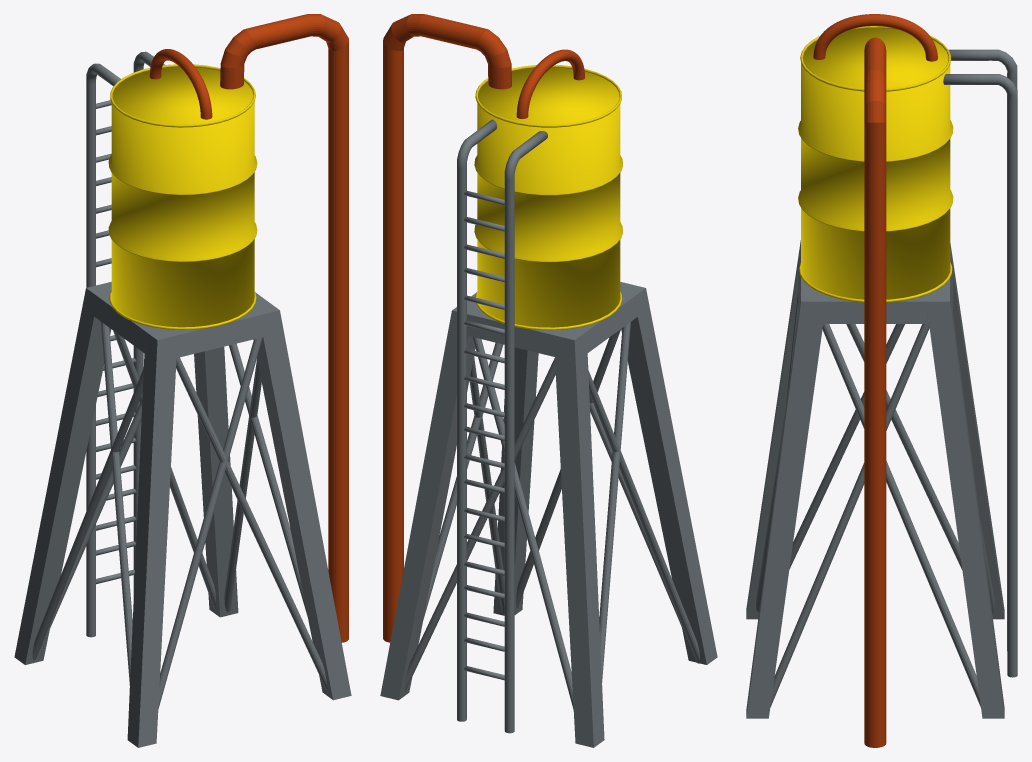
The model's file is Oil Top Up Station.fbx.
3 views of the same model, side by side, from view 1: azimuth 30°, elevation 25°; view 2: azimuth 150°, elevation 25°; view 3: azimuth 270°, elevation 25° (orthographic). The views are drawn at different scales.
Parts seen in each view (by area): view 1: Cube.003, cable; view 2: Cube.003, cable; view 3: Cube.003, cable.
Boxes of the visible parts, bbox=[...] form: Cube.003: bbox=[14, 14, 351, 747]; cable: bbox=[149, 49, 212, 119]; Cube.003: bbox=[380, 14, 717, 747]; cable: bbox=[516, 49, 584, 118]; Cube.003: bbox=[746, 26, 1017, 747]; cable: bbox=[813, 14, 937, 61].
Bounding box in the file's own units: 2656 × 5915 × 2207.
